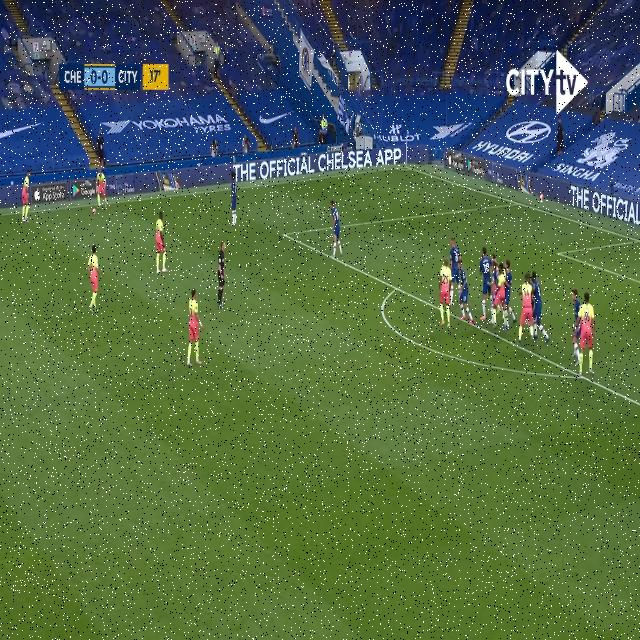Ball: (92, 207, 96, 216)
TEAM 1: (580, 288, 596, 376), (186, 287, 203, 369), (436, 259, 454, 328), (85, 245, 101, 314), (520, 271, 532, 344), (154, 213, 168, 275), (496, 263, 507, 330), (22, 170, 31, 225), (97, 170, 107, 209)
TEAM 2: (457, 256, 473, 330), (532, 274, 548, 340), (568, 284, 580, 364), (227, 165, 239, 238), (480, 241, 490, 321), (329, 200, 343, 256), (505, 258, 515, 328), (490, 250, 496, 303)
